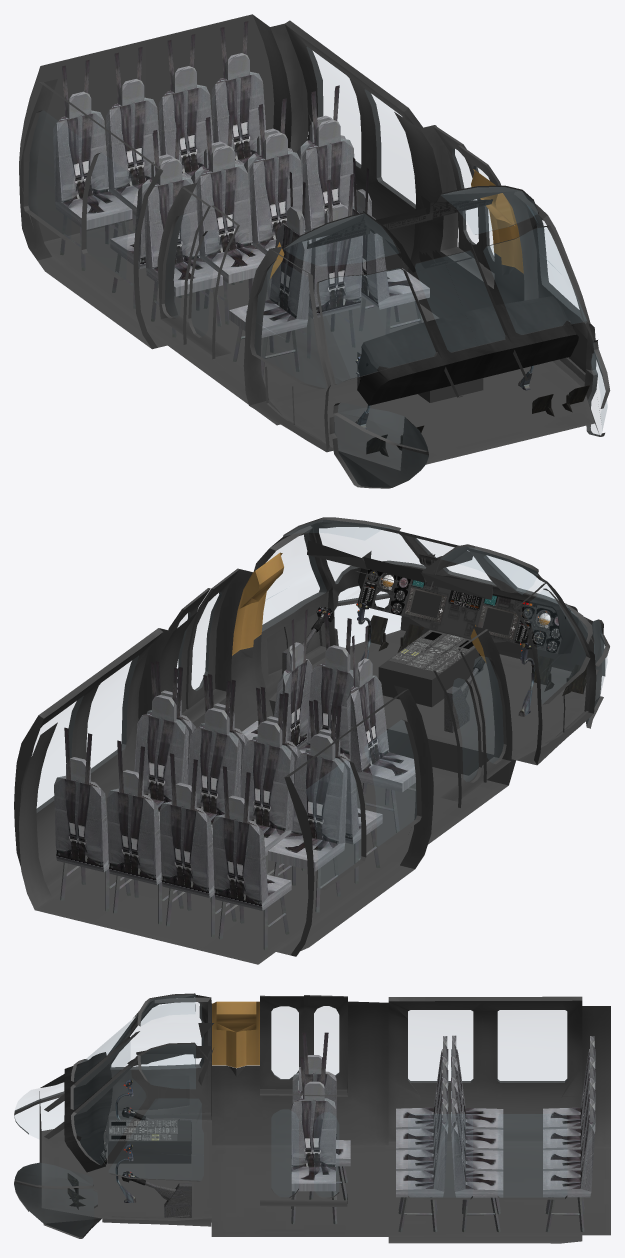
File: interior.gltf
3 renders of one model, top to bottom at view 1: azimuth 30°, elevation 25°; view 2: azimuth 150°, elevation 25°; view 3: azimuth 270°, elevation 25°, orthographic. The views are drawn at different scales.
Parts seen in each view (by area): view 1: Interior; view 2: Interior; view 3: Interior.
Boxes of the visible parts, left/top/right/bottom form: Interior: left=19, top=14, right=610, bottom=488; Interior: left=14, top=517, right=609, bottom=964; Interior: left=14, top=993, right=610, bottom=1243.
Bounding box in the file's own units: 2.56 × 1.62 × 5.31.
47 materials, 42 textured.
